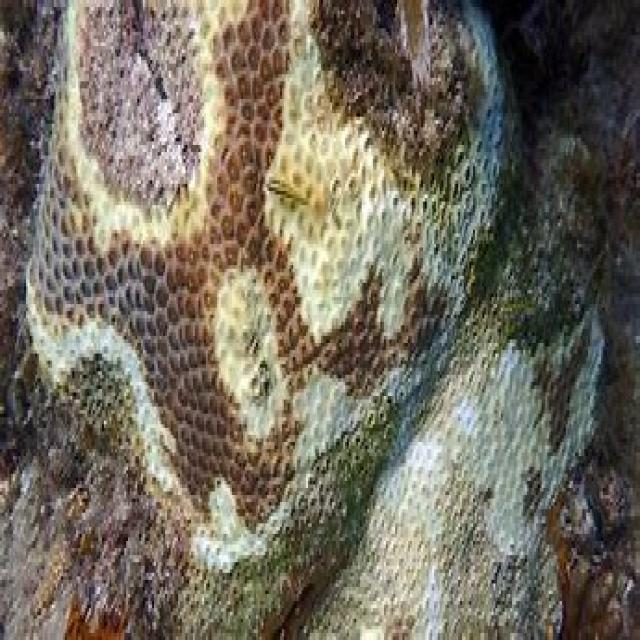Coral: (26, 0, 605, 640)
